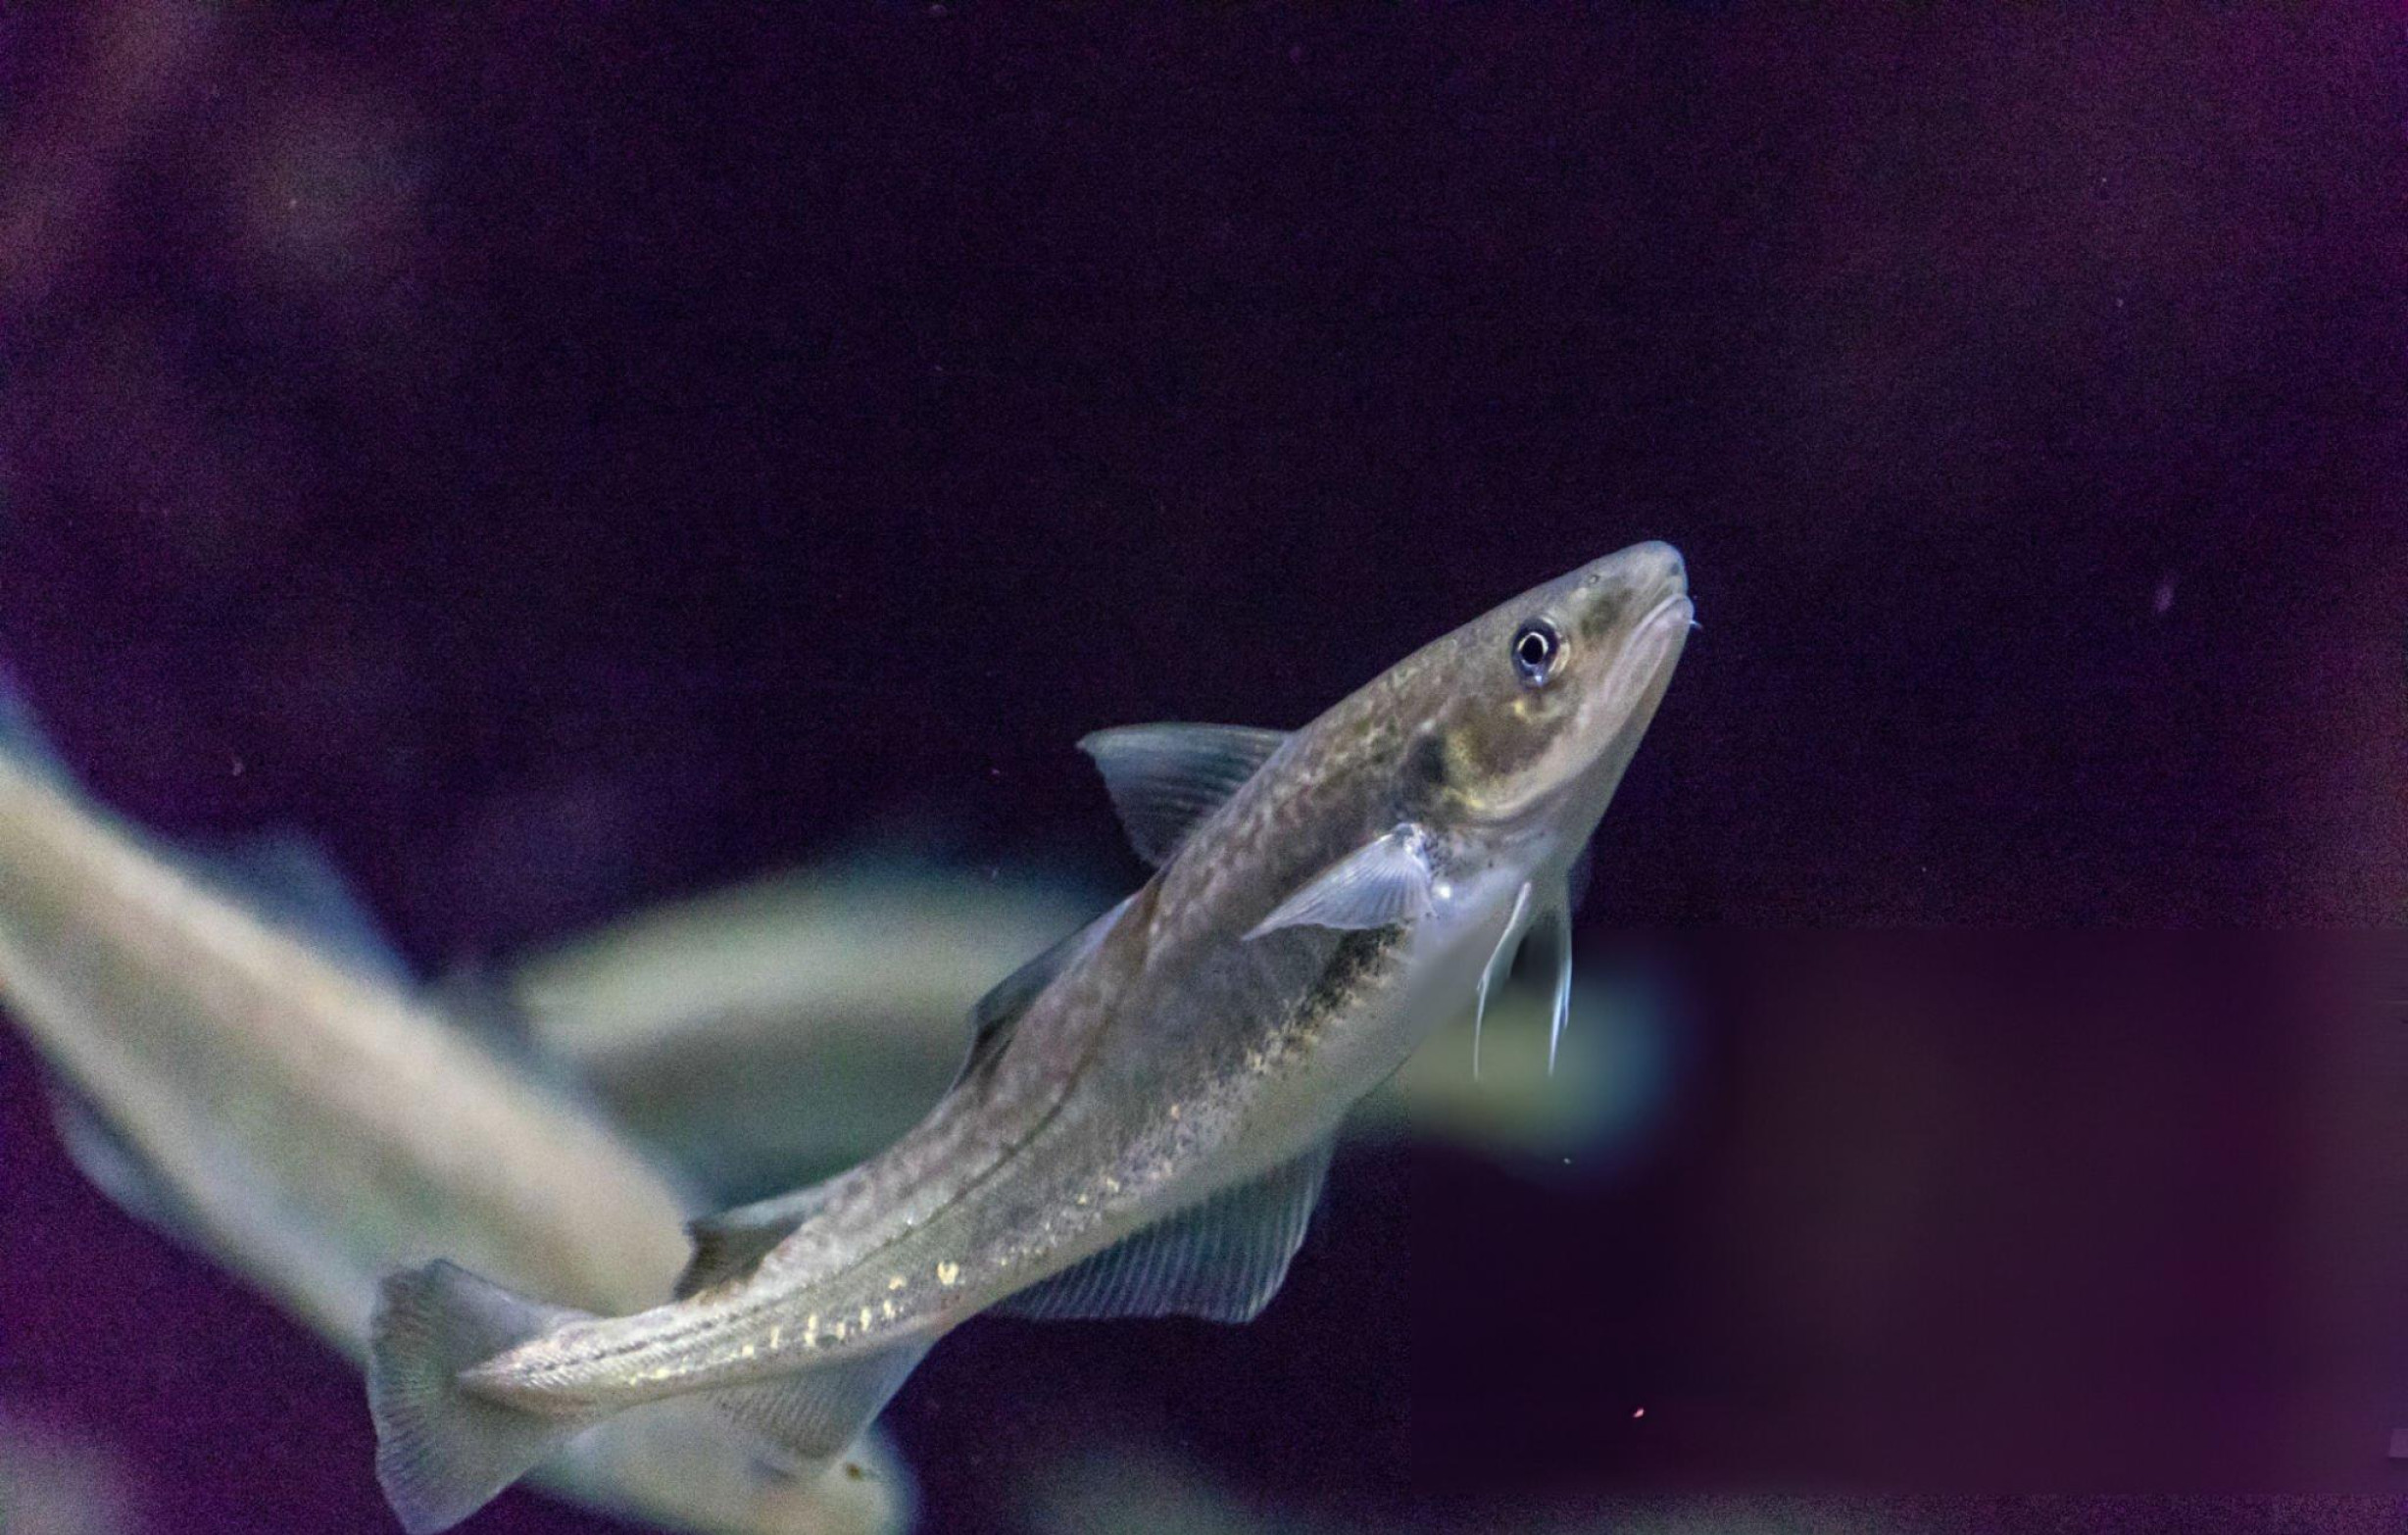Pecific herring: (353, 516, 1701, 1535)
